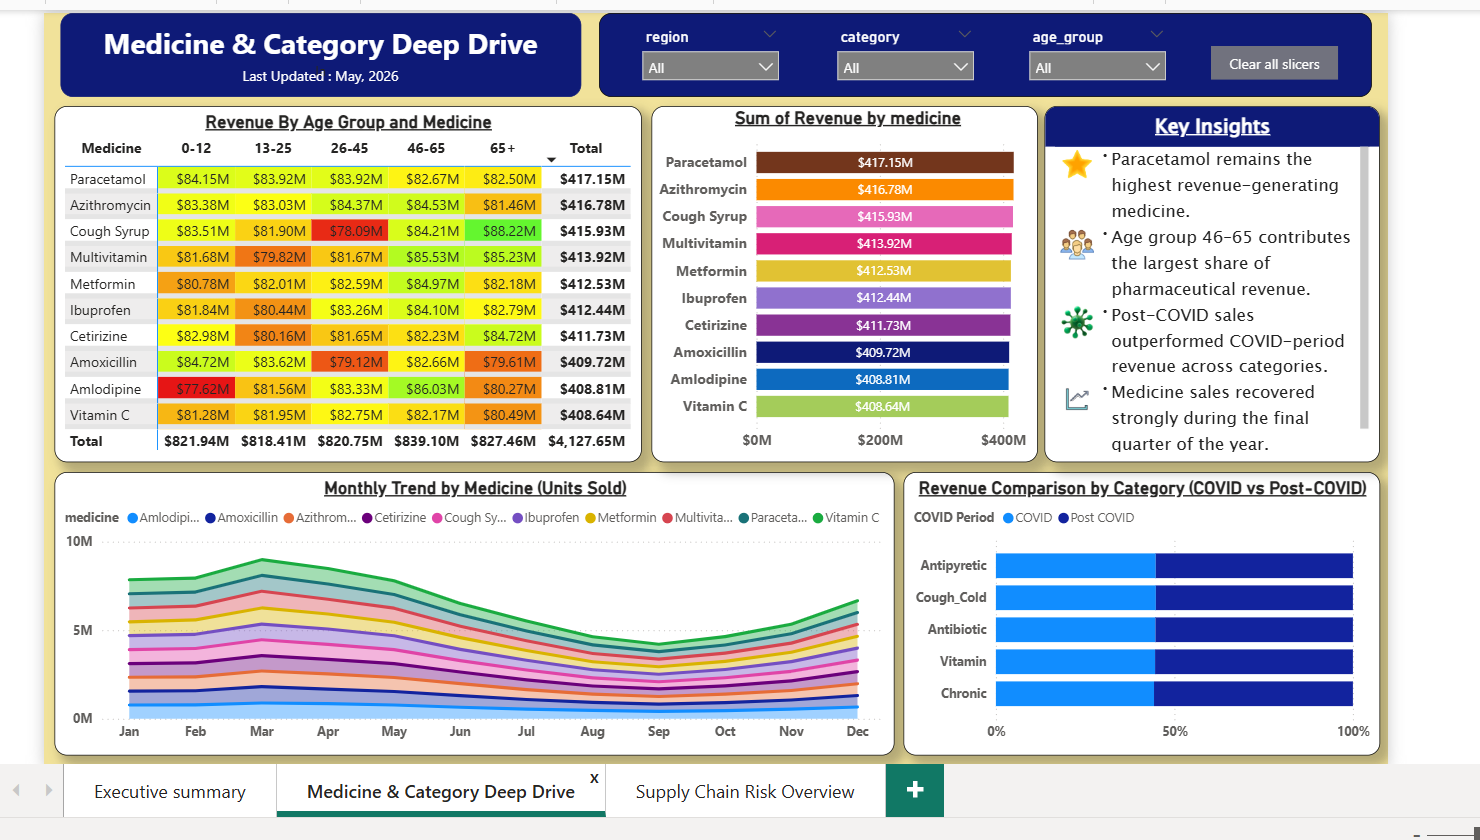

The dashboard page shown, as its layout file describes it:
{"tool":"powerbi","page":{"name":"Medicine & Category Deep Drive","canvas":[1280,720],"ordinal":1},"visuals":[{"type":"textbox","box":[16,0,496,80],"z":0},{"type":"textbox","box":[528,0,736,80],"z":1000},{"type":"slicer","fields":{"Values":["global_pharmacy_sales.region"]},"box":[560,8,150,64],"z":2000},{"type":"slicer","fields":{"Values":["global_pharmacy_sales.category"]},"box":[745,8,150,64],"z":3000},{"type":"slicer","fields":{"Values":["global_pharmacy_sales.age_group"]},"box":[928,8,150,64],"z":4000},{"type":"pivotTable","title":"Revenue By Age Group and Medicine","fields":{"Values":["Sum(global_pharmacy_sales.Revenue)"],"Rows":["global_pharmacy_sales.medicine"],"Columns":["global_pharmacy_sales.age_group"]},"box":[10,88,559,339],"z":5000},{"type":"stackedAreaChart","title":"Monthly Trend by Medicine (Units Sold)","fields":{"Y":["Sum(global_pharmacy_sales.units_sold)"],"Series":["global_pharmacy_sales.medicine"],"Category":["global_pharmacy_sales.Month Name"]},"box":[10,437,800,270],"z":6000},{"type":"textbox","box":[112,45,304,32],"z":7000},{"type":"barChart","fields":{"Category":["global_pharmacy_sales.medicine"],"Y":["Sum(global_pharmacy_sales.Revenue)"]},"box":[578,88,368,339],"z":8000},{"type":"hundredPercentStackedBarChart","title":" Revenue Comparison by Category (COVID vs Post-COVID)","fields":{"Y":["Sum(global_pharmacy_sales.Revenue)"],"Category":["global_pharmacy_sales.category"],"Series":["global_pharmacy_sales.COVID Period"]},"box":[819,437,454,270],"z":9000},{"type":"textbox","title":"Key Insights","box":[953,88,319,339],"z":10000},{"type":"image","box":[960,128,48,32],"z":11000},{"type":"image","box":[960,204,48,32],"z":12000},{"type":"image","box":[960,278,48,32],"z":13000},{"type":"image","box":[960,351,48,32],"z":14000},{"type":"actionButton","box":[1112,32,121,32],"z":15000}]}

Visuals, with their boxes on the page's 1280x720 design canvas (x1, y1, x2, y2). These are canvas units, not pixel positions in the 1480x840 screenshot, which may show the page scaled, cropped or inside an application window:
textbox: left=16, top=0, right=512, bottom=80
textbox: left=528, top=0, right=1264, bottom=80
slicer - global_pharmacy_sales.region: left=560, top=8, right=710, bottom=72
slicer - global_pharmacy_sales.category: left=745, top=8, right=895, bottom=72
slicer - global_pharmacy_sales.age_group: left=928, top=8, right=1078, bottom=72
"Revenue By Age Group and Medicine" pivotTable: left=10, top=88, right=569, bottom=427
"Monthly Trend by Medicine (Units Sold)" stackedAreaChart: left=10, top=437, right=810, bottom=707
textbox: left=112, top=45, right=416, bottom=77
barChart - global_pharmacy_sales.medicine x Sum(global_pharmacy_sales.Revenue): left=578, top=88, right=946, bottom=427
" Revenue Comparison by Category (COVID vs Post-COVID)" hundredPercentStackedBarChart: left=819, top=437, right=1273, bottom=707
"Key Insights" textbox: left=953, top=88, right=1272, bottom=427
image: left=960, top=128, right=1008, bottom=160
image: left=960, top=204, right=1008, bottom=236
image: left=960, top=278, right=1008, bottom=310
image: left=960, top=351, right=1008, bottom=383
actionButton: left=1112, top=32, right=1233, bottom=64
